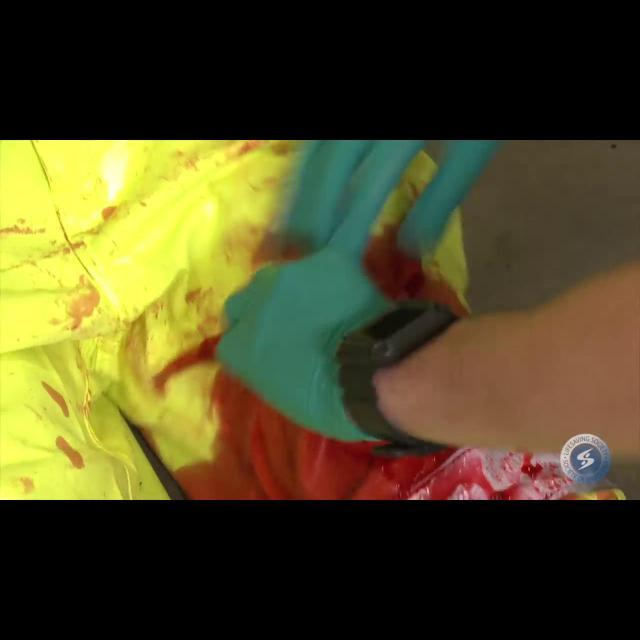blood: (0, 141, 574, 499), (362, 150, 468, 314)
